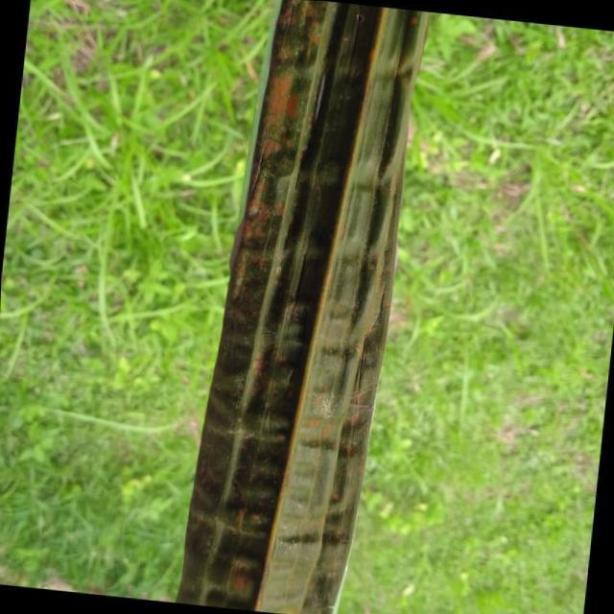Kalium: (176, 0, 432, 614)
